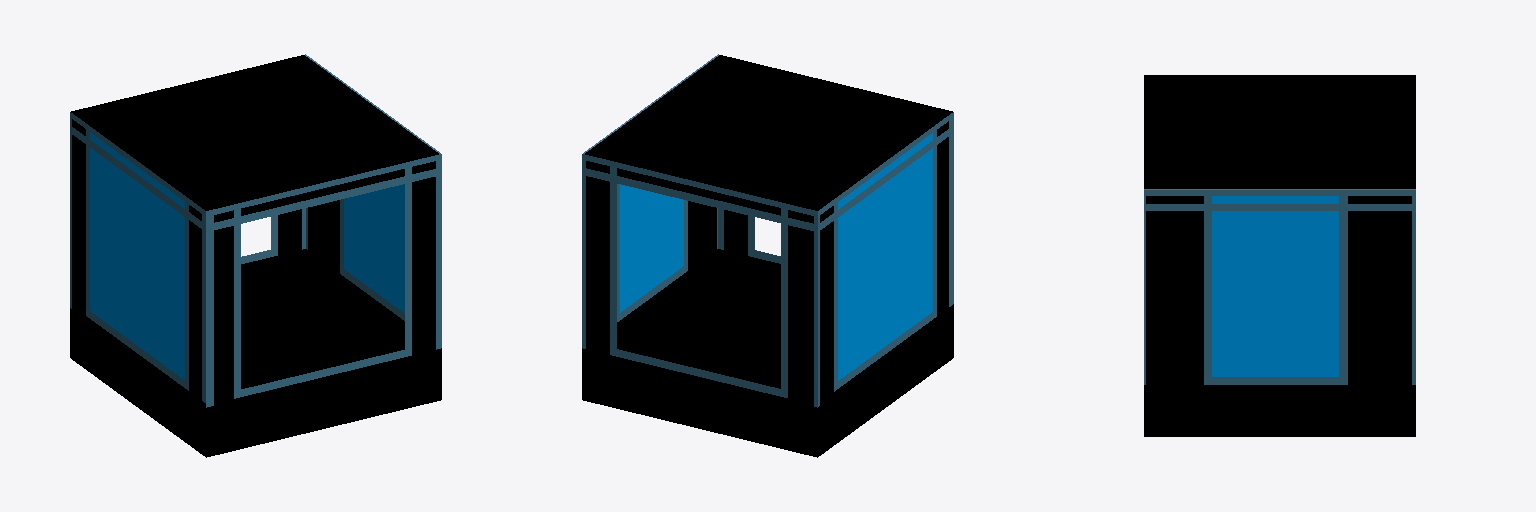
3 renders of one model, left to right at view 1: azimuth 30°, elevation 25°; view 2: azimuth 150°, elevation 25°; view 3: azimuth 270°, elevation 25°, orthographic.
Parts seen in each view (by area): view 1: Cube; view 2: Cube; view 3: Cube.
Boxes of the visible parts, box(x1,y1,x2,y2) form: Cube: box(70, 54, 441, 457); Cube: box(582, 54, 953, 457); Cube: box(1144, 75, 1415, 436).
Bounding box in the file's own units: 2 × 2 × 2.
1 materials, 1 textured.